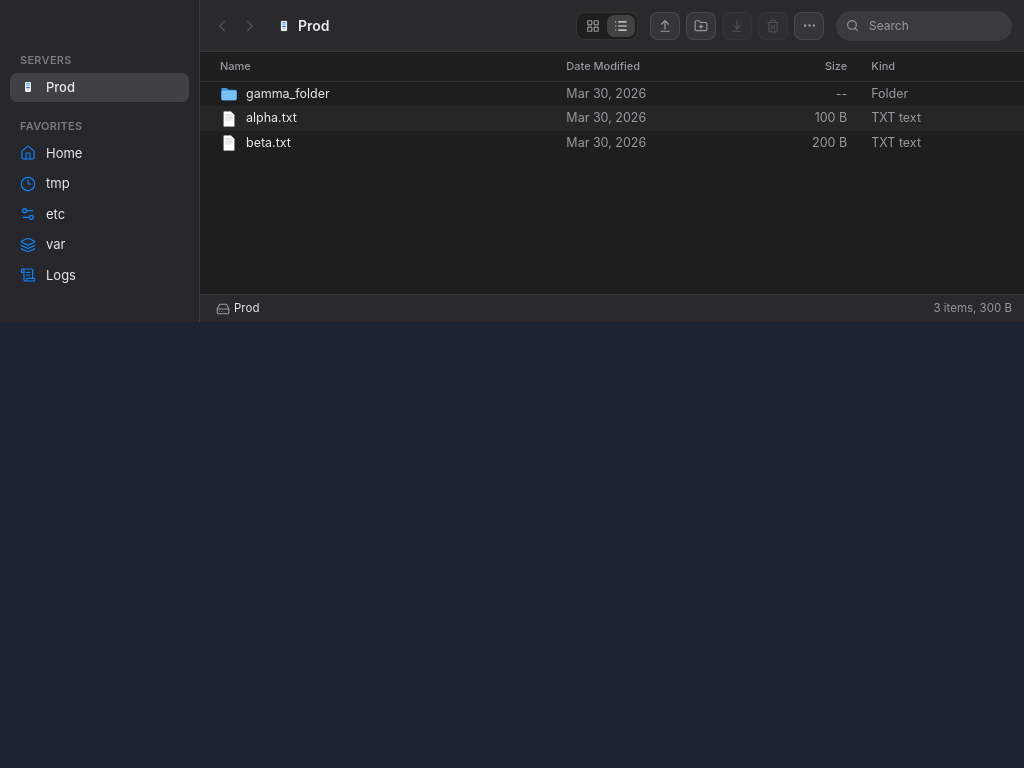
Test: FilesApp multi-select › warns before downloading a selection with folders and offers compression
This screenshot has width=1024, height=768.
Expected: the text "alpha.txt" is shown, [246,109,297,128]
Press the mouse on the text "alpha.txt" at coordinates (612, 119), box [200,106,1023,131]
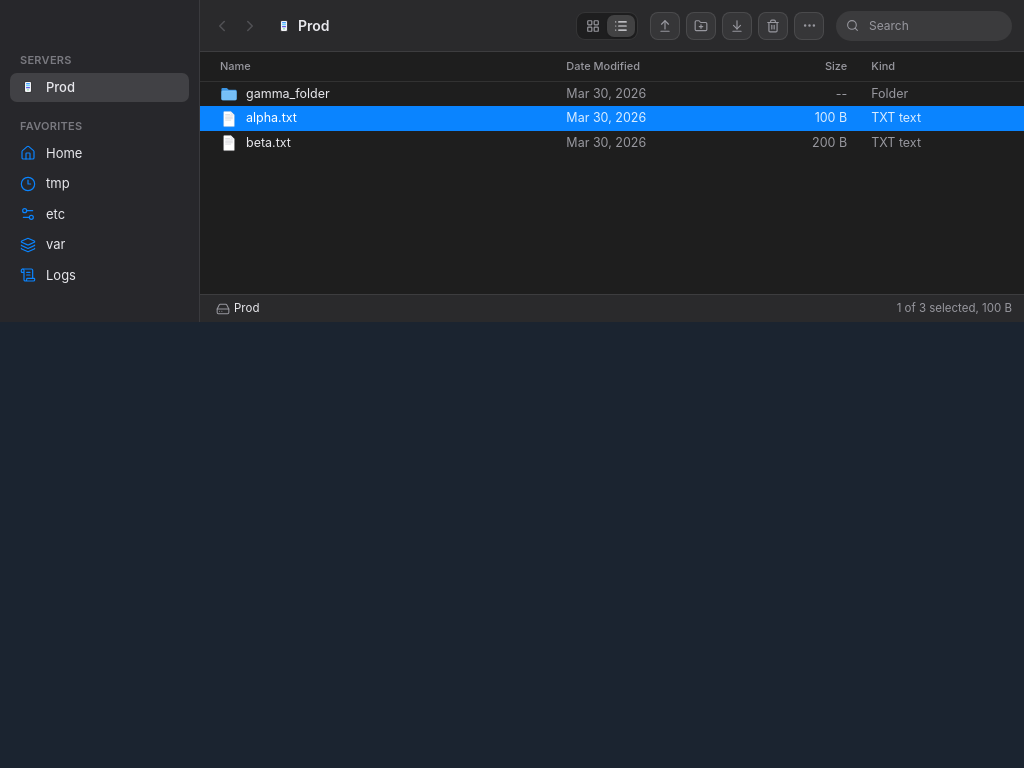
Press the mouse on the text "gamma_folder" at coordinates (612, 94), box [200,81,1023,106]
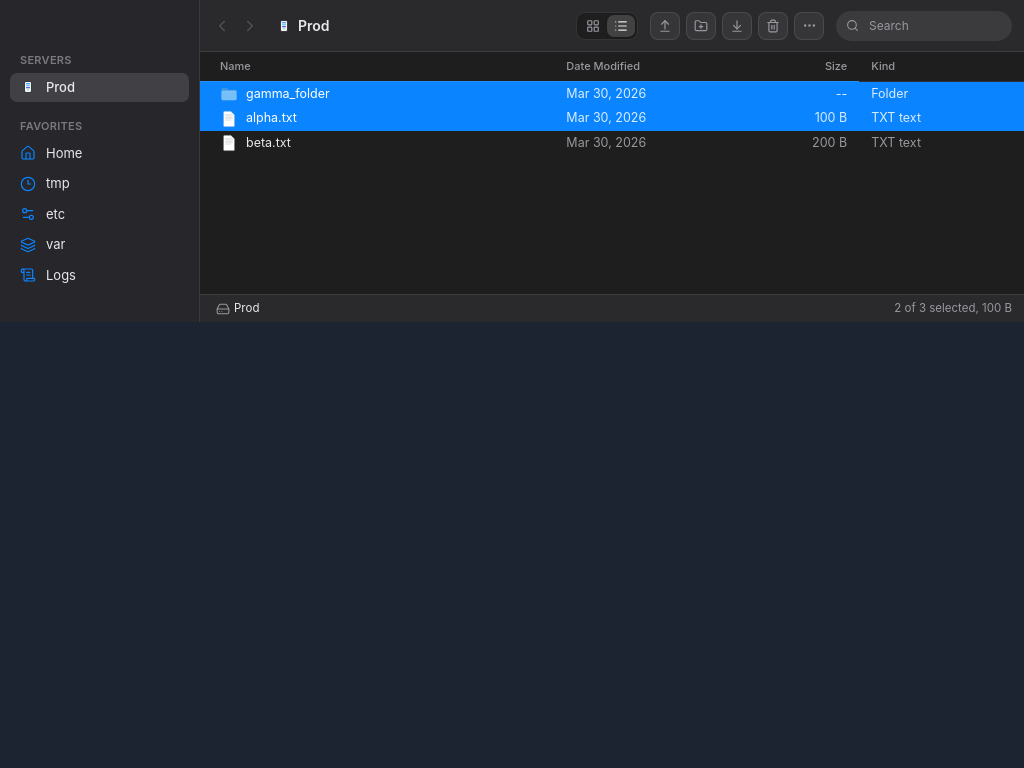
Click the button named "Download" at coordinates (737, 26), box [722,12,752,40]
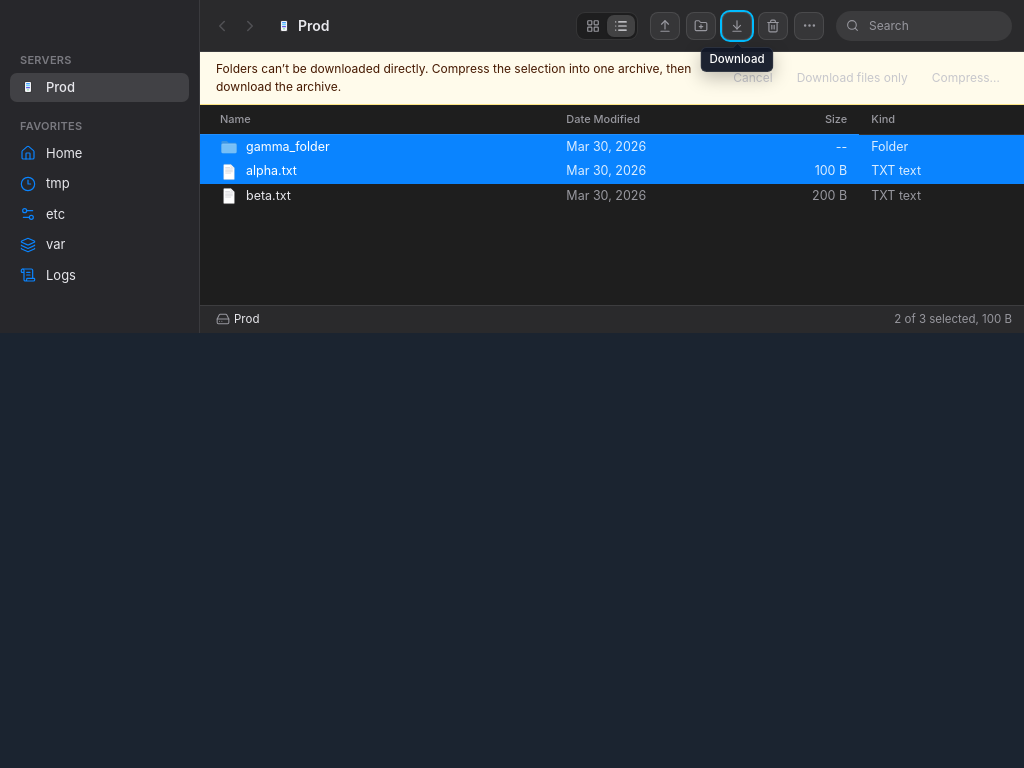
Expected: the dialog shows "Folders can’t be downloaded directly", [216,61,691,94]
Click the button "Compress…" at coordinates (966, 78), box [924,65,1008,91]
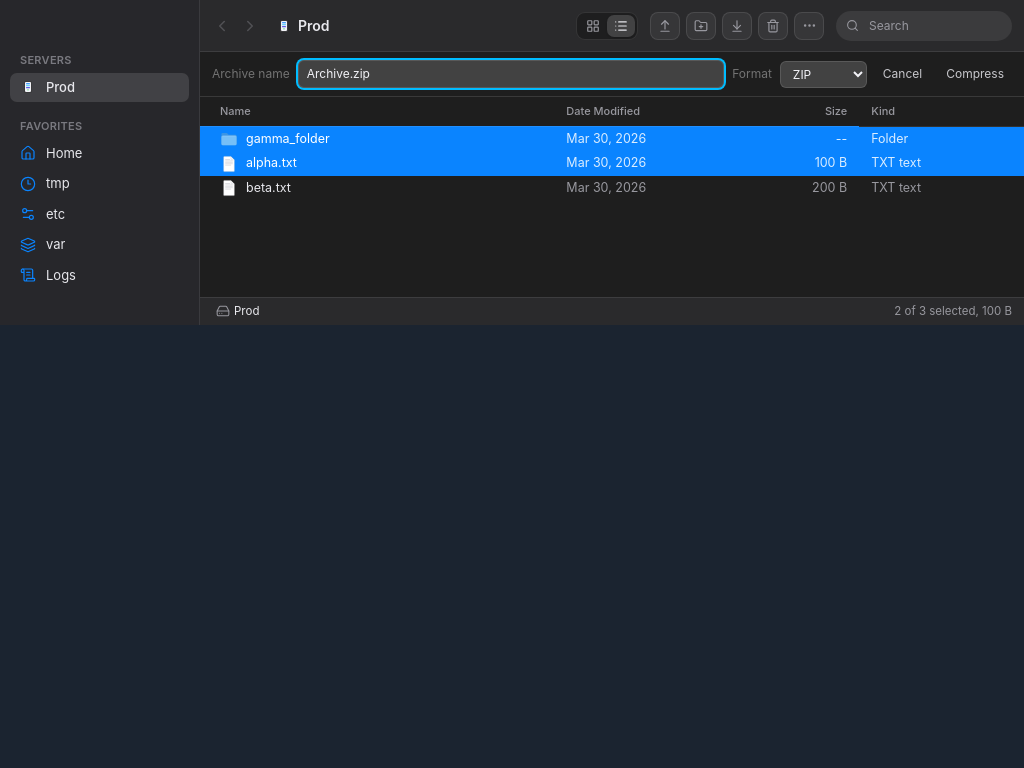
Expected: the field labelled "Archive name" holds "Archive.zip", [298,60,724,88]
